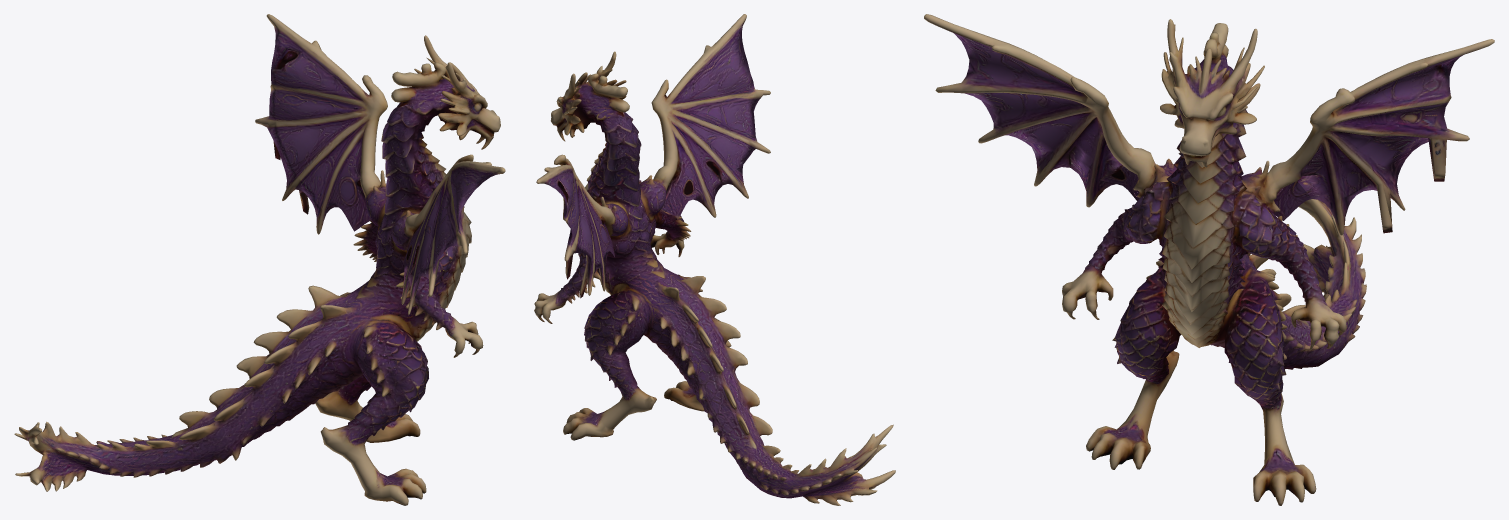
The model's file is royal-dragon.glb.
The picture shows the model from 3 angles, left to right: view 1: azimuth 30°, elevation 25°; view 2: azimuth 150°, elevation 25°; view 3: azimuth 270°, elevation 25°; orthographic projection. The views are drawn at different scales.
Visible parts, largest first — view 1: tripo_node_e4b6a9c5-8f0f-4d07-bb1c-9e739466018c; view 2: tripo_node_e4b6a9c5-8f0f-4d07-bb1c-9e739466018c; view 3: tripo_node_e4b6a9c5-8f0f-4d07-bb1c-9e739466018c.
Part boxes in pixels (left/top/right/bottom): tripo_node_e4b6a9c5-8f0f-4d07-bb1c-9e739466018c: left=14, top=14, right=505, bottom=505; tripo_node_e4b6a9c5-8f0f-4d07-bb1c-9e739466018c: left=534, top=14, right=895, bottom=505; tripo_node_e4b6a9c5-8f0f-4d07-bb1c-9e739466018c: left=924, top=14, right=1494, bottom=505.
Bounding box in the file's own units: 0.9995 × 0.8979 × 0.9644.
Materials: 1 (1 with a texture image).
